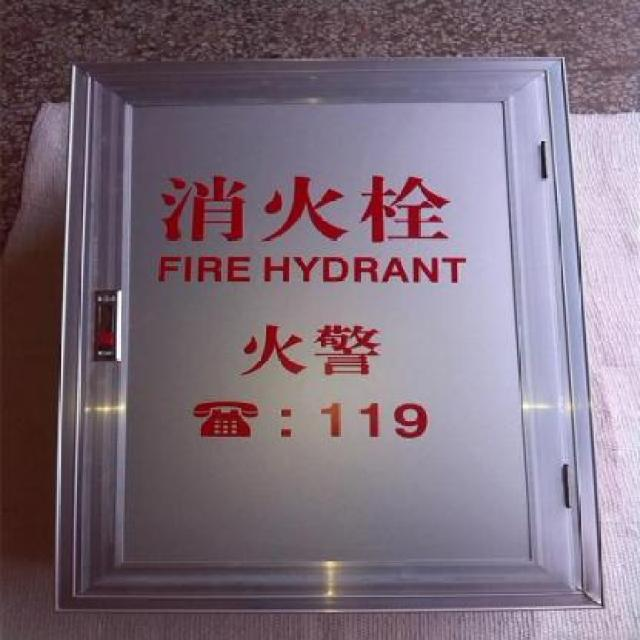firehydrant: (41, 48, 612, 619)
